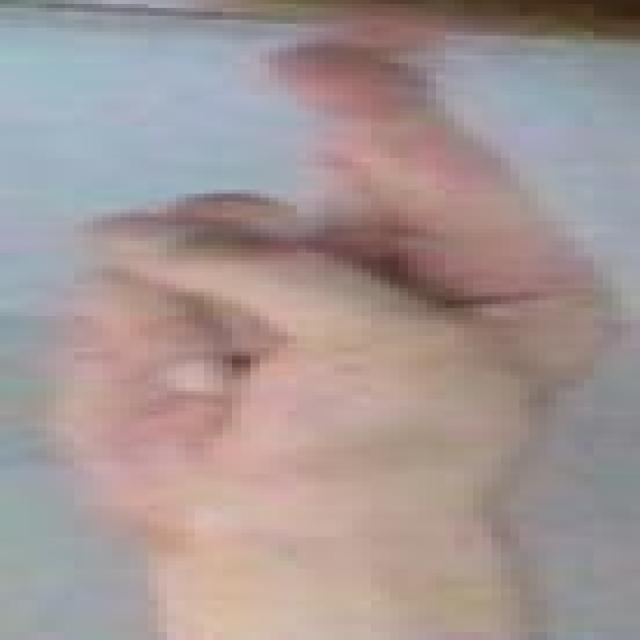R: (25, 17, 640, 586)
